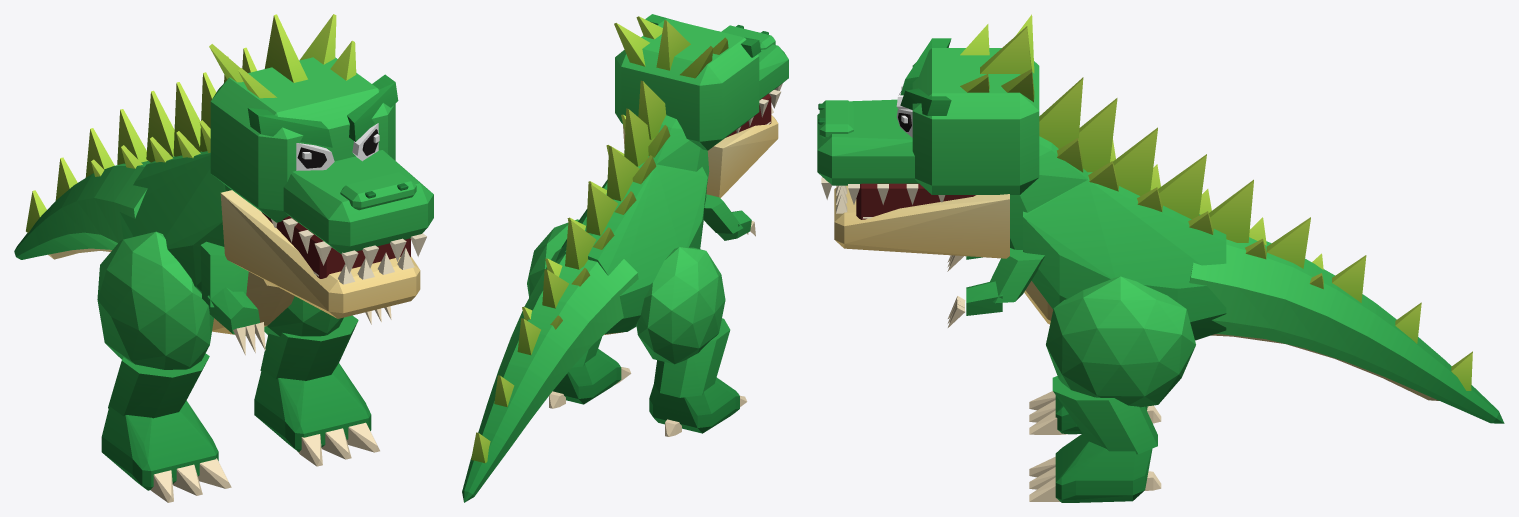
The model's file is knockout_rex.glb.
3 renders of one model, left to right at view 1: azimuth 30°, elevation 25°; view 2: azimuth 150°, elevation 25°; view 3: azimuth 270°, elevation 25°, orthographic. The views are drawn at different scales.
Visible parts, largest first — view 1: knockout_rex; view 2: knockout_rex; view 3: knockout_rex.
Boxes of the visible parts, box(x1,y1,x2,y2) form: knockout_rex: box(14, 14, 433, 502); knockout_rex: box(462, 14, 788, 502); knockout_rex: box(817, 14, 1504, 502).
Bounding box in the file's own units: 0.61 × 1.16 × 1.69.
1 material, 1 textured.
